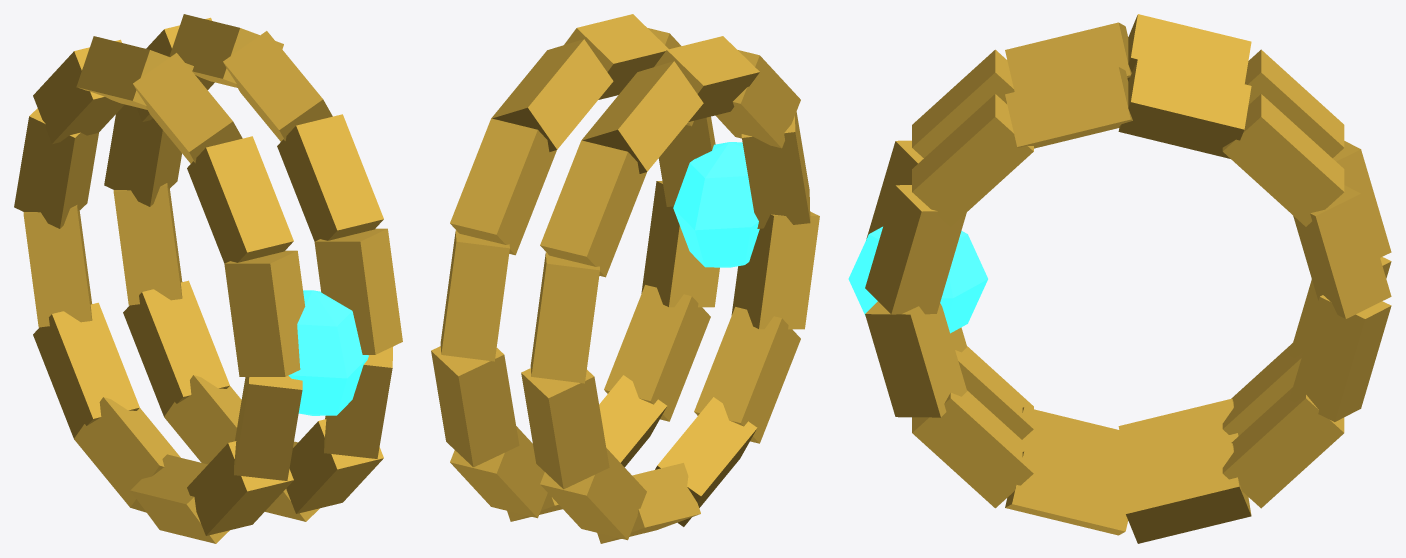
The model's file is naga_tidecaller_armband_l.glb.
3 renders of one model, left to right at view 1: azimuth 30°, elevation 25°; view 2: azimuth 150°, elevation 25°; view 3: azimuth 270°, elevation 25°, orthographic.
Visible parts, largest first — view 1: naga_tidecaller_armband_l; view 2: naga_tidecaller_armband_l; view 3: naga_tidecaller_armband_l.
Boxes of the visible parts, box(x1,y1,x2,y2) form: naga_tidecaller_armband_l: box(14, 14, 402, 543); naga_tidecaller_armband_l: box(431, 14, 819, 543); naga_tidecaller_armband_l: box(848, 14, 1391, 543).
Size of the model in its own units: 0.1025 by 0.3011 by 0.3105.
